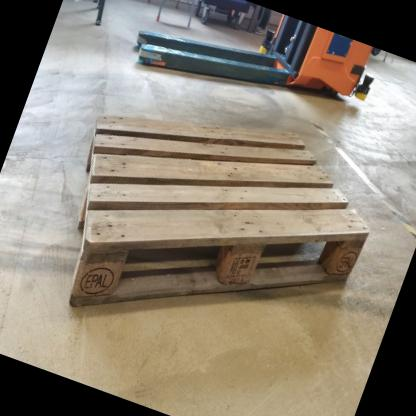BoxFace: (63, 111, 374, 317)
